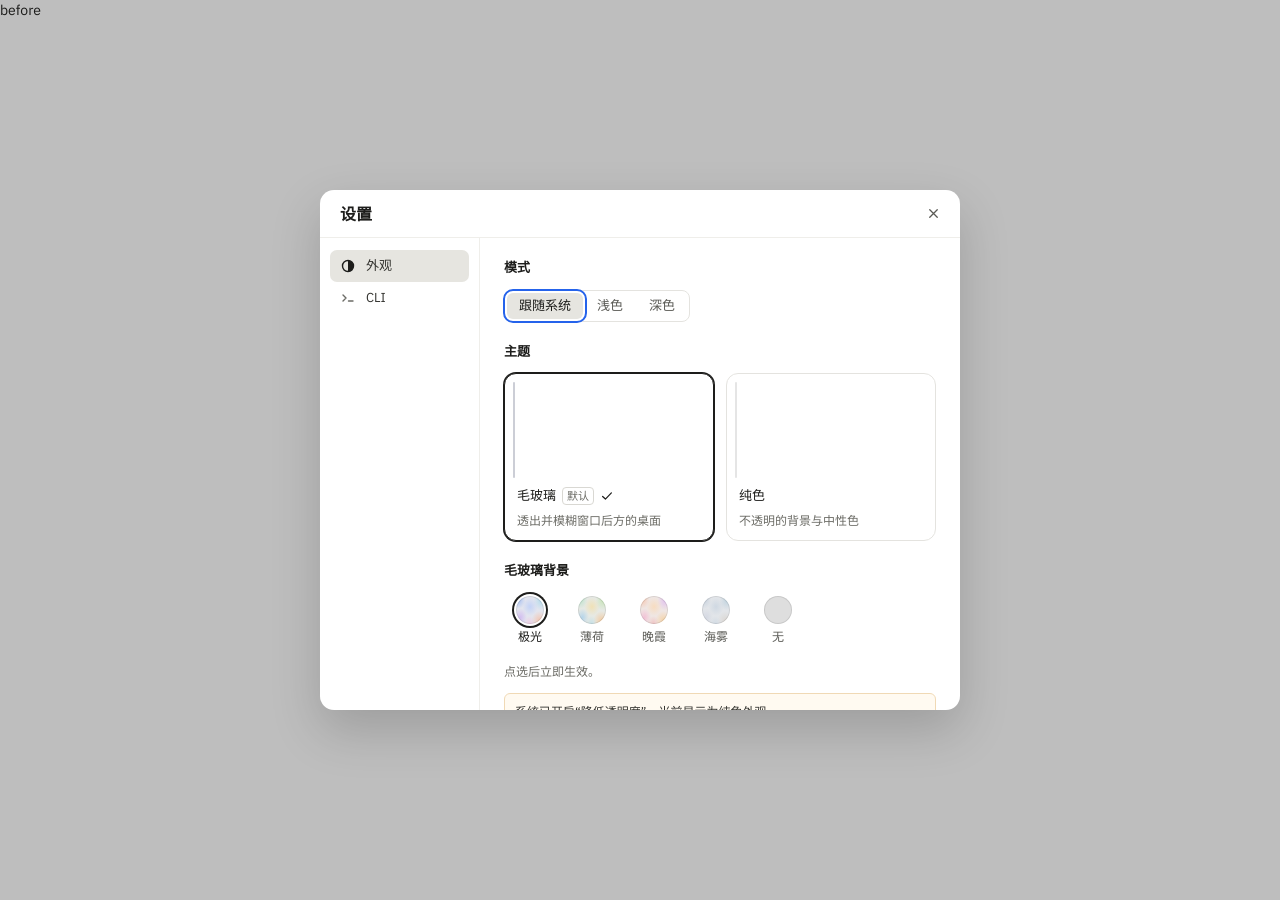
Test case: settings · FR-SET-001 / FR-SET-002 · AC-08 › explains "Reduce transparency" only for a glass choice, and reports a failed save
Click the radio button labelled "纯色 不透明的背景与中性色" at (831, 457), box top-left (726, 373), bottom-right (936, 540)
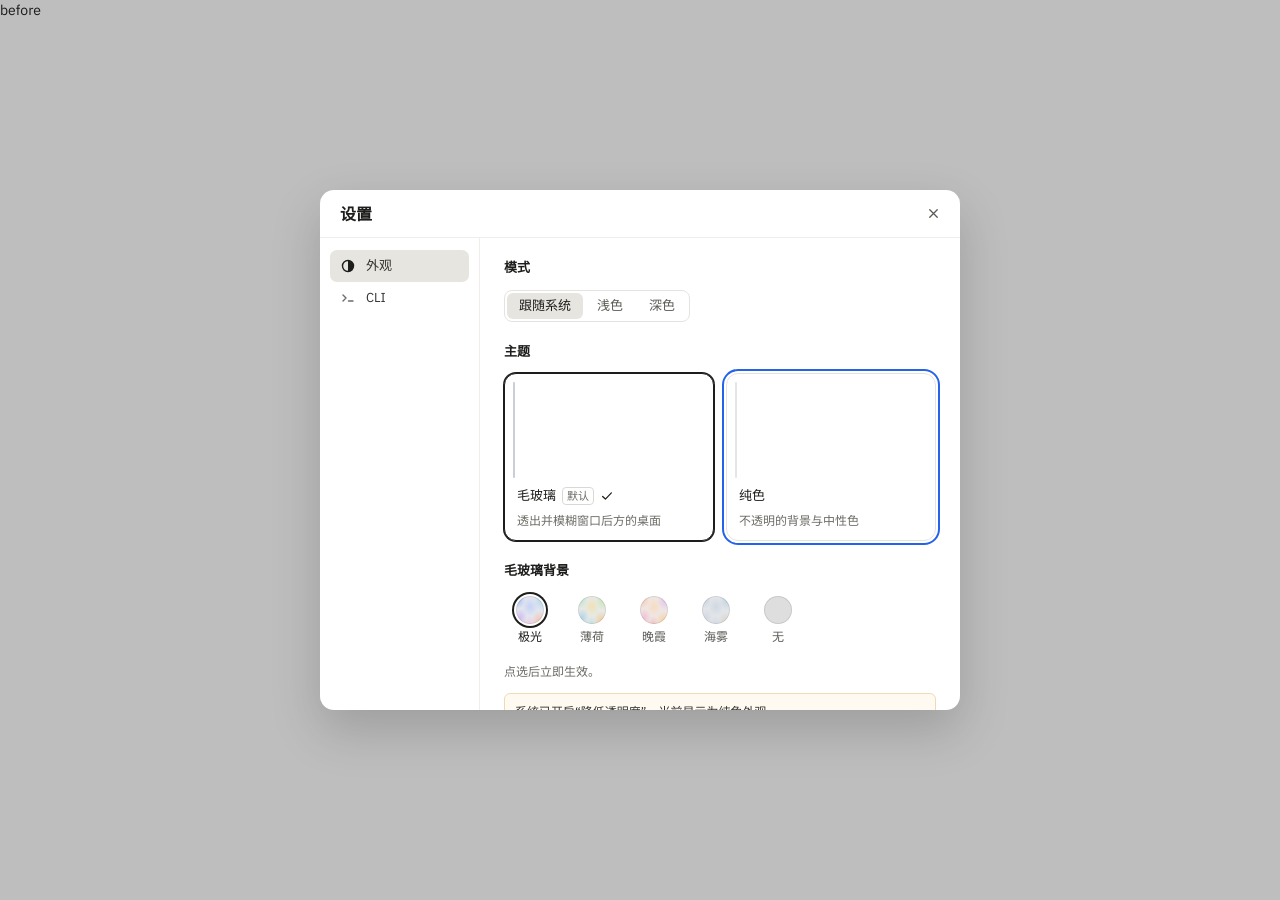
Click the radio button labelled "纯色 不透明的背景与中性色" at (831, 457), box top-left (726, 373), bottom-right (936, 540)
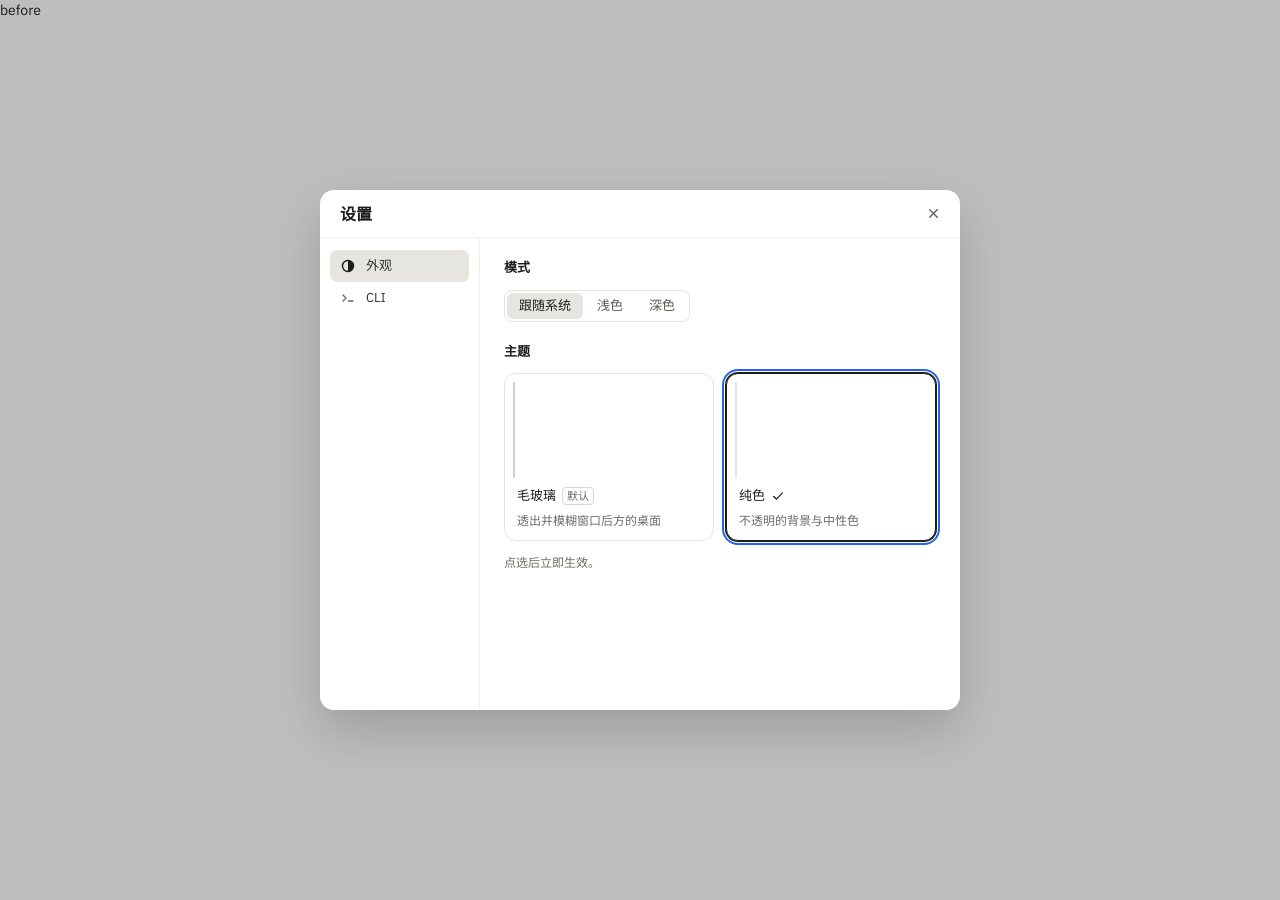
Check: the message "系统已开启“降低透明度”，当前显示为纯色外观。" is gone
